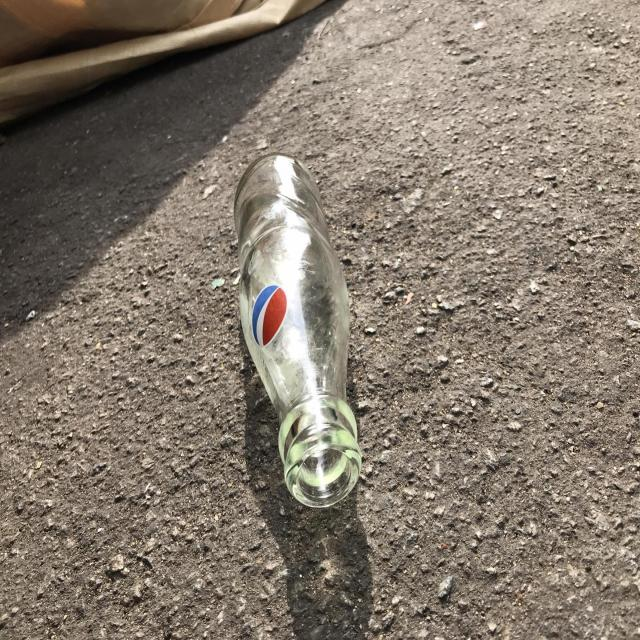glass: (234, 153, 362, 508)
